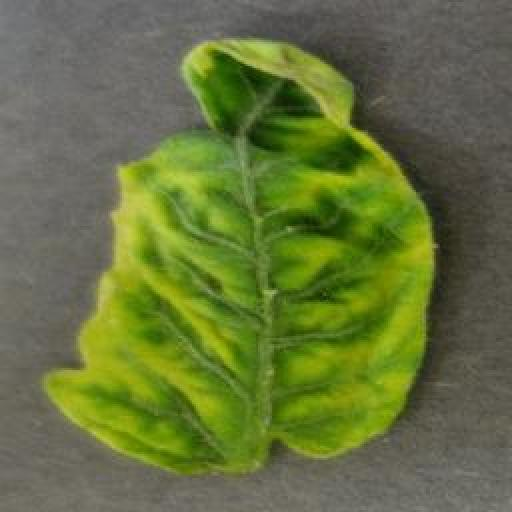disease_tomato: (43, 36, 438, 480)
